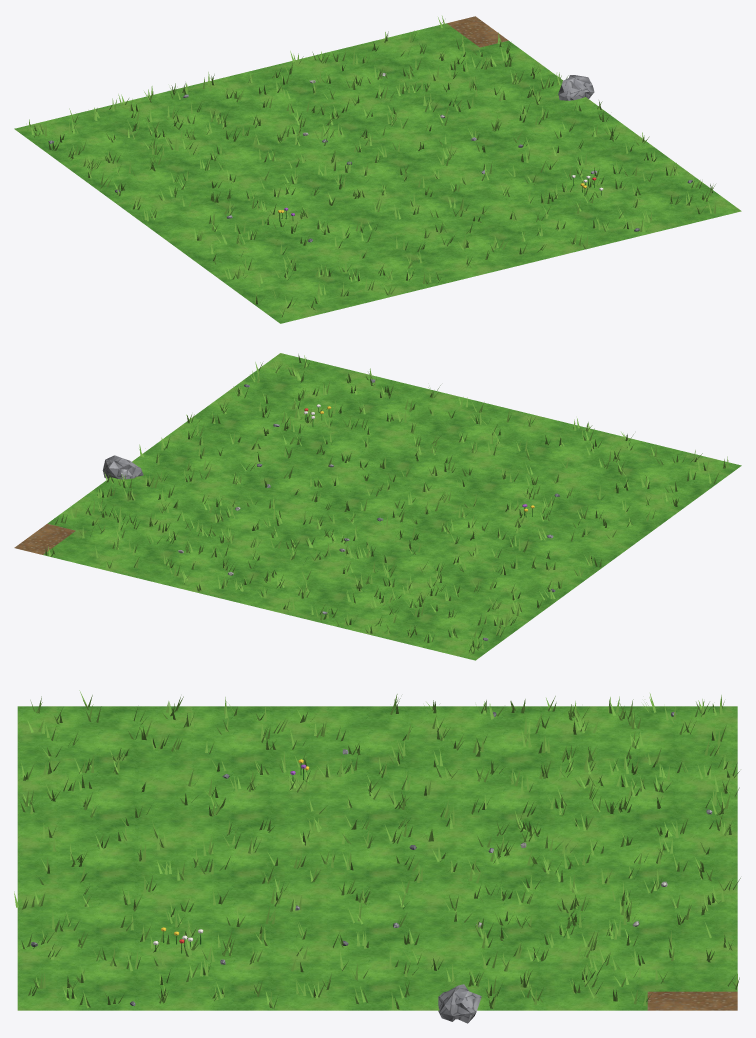
The model's file is chunk_5_7.glb.
3 views of the same model, one above another, from view 1: azimuth 30°, elevation 25°; view 2: azimuth 150°, elevation 25°; view 3: azimuth 270°, elevation 25° (orthographic). The views are drawn at different scales.
Parts seen in each view (by area): view 1: chunk_5_7; view 2: chunk_5_7; view 3: chunk_5_7.
Part boxes in pixels (<box>): chunk_5_7: <box>14,16,741,323</box>; chunk_5_7: <box>14,353,741,660</box>; chunk_5_7: <box>14,690,740,1023</box>.
Size of the model in its own units: 16.47 by 0.8147 by 16.18.
11 materials, 6 textured.
